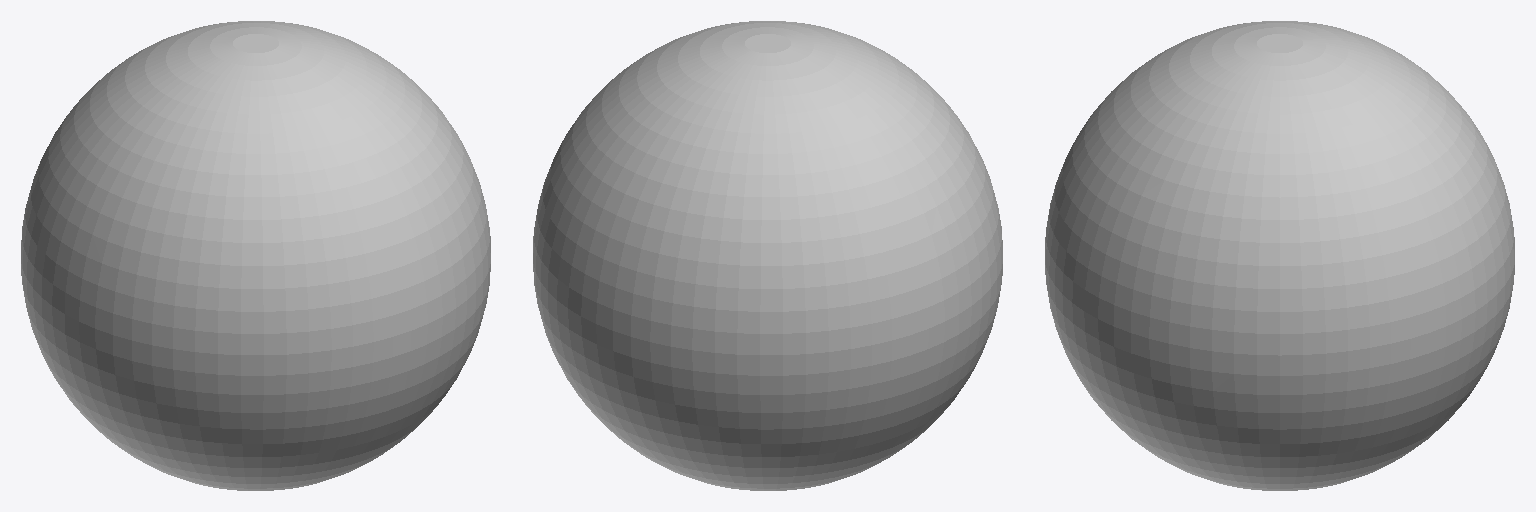
The model's file is ball2.obj.
The picture shows the model from 3 angles: view 1: azimuth 30°, elevation 25°; view 2: azimuth 150°, elevation 25°; view 3: azimuth 270°, elevation 25°; orthographic projection.
Parts seen in each view (by area): view 1: planet_Sphere.000; view 2: planet_Sphere.000; view 3: planet_Sphere.000.
Boxes of the visible parts, x1=… form: planet_Sphere.000: x1=21, y1=21, x2=490, y2=490; planet_Sphere.000: x1=533, y1=21, x2=1002, y2=490; planet_Sphere.000: x1=1045, y1=21, x2=1514, y2=490.
Bounding box in the file's own units: 0.2214 × 0.2204 × 0.2214.